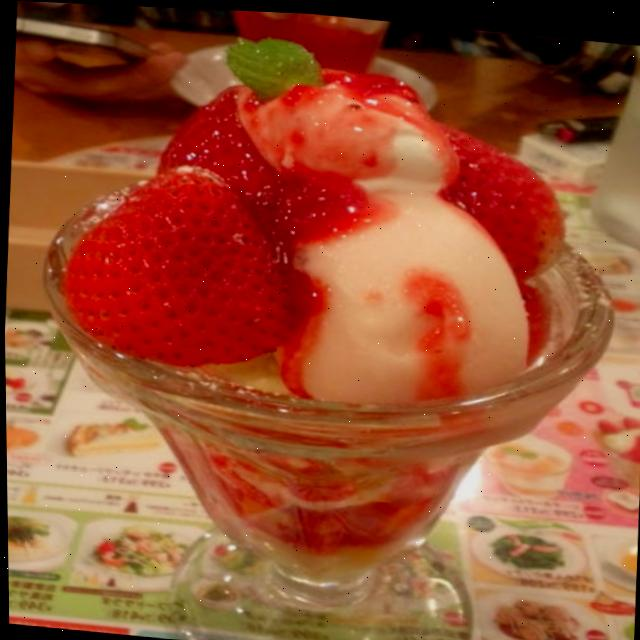蛋糕甜品: (15, 17, 640, 640)
